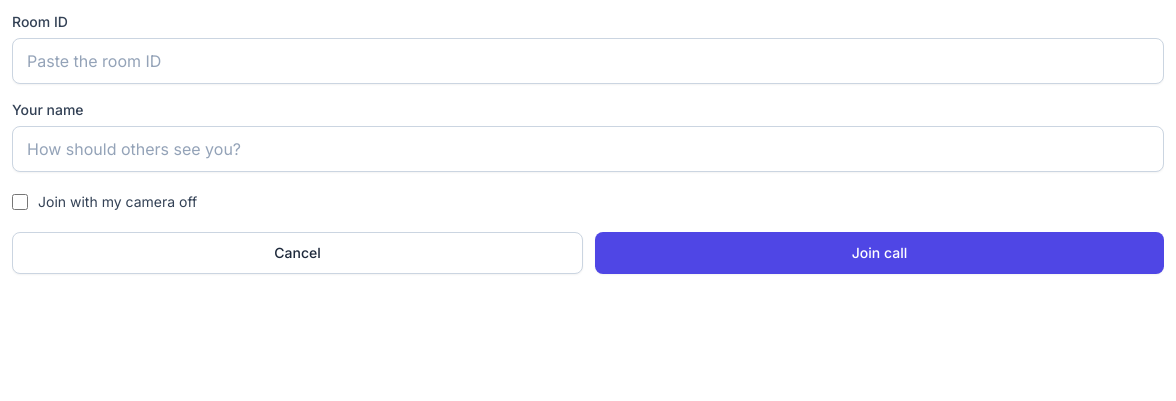
it: JoinRoomContent › joining a call (guest) › only asks for a password once it knows the room needs one
Expected: the field labelled "password" is not shown
In the field labelled "Room ID": (588, 61) [12, 38, 1164, 84], type "locked"
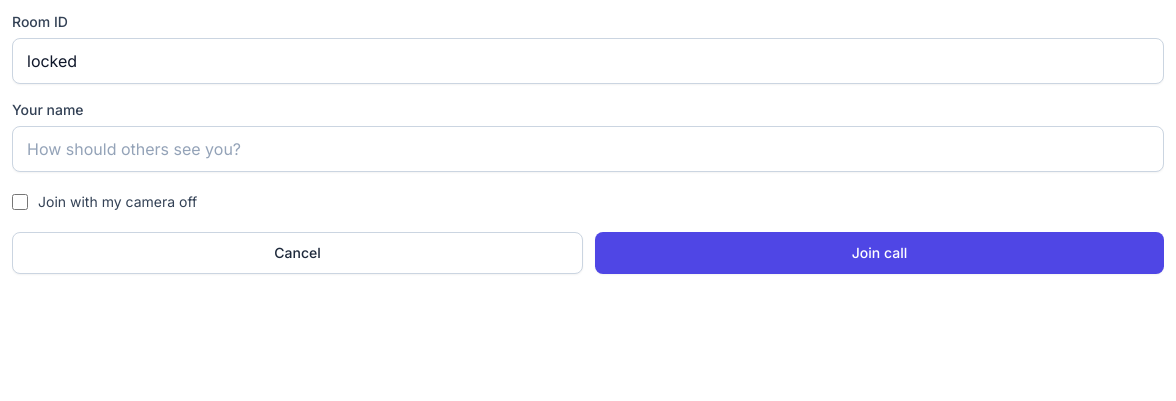
In the field labelled "Your name": (588, 149) [12, 126, 1164, 172], type "Bob"
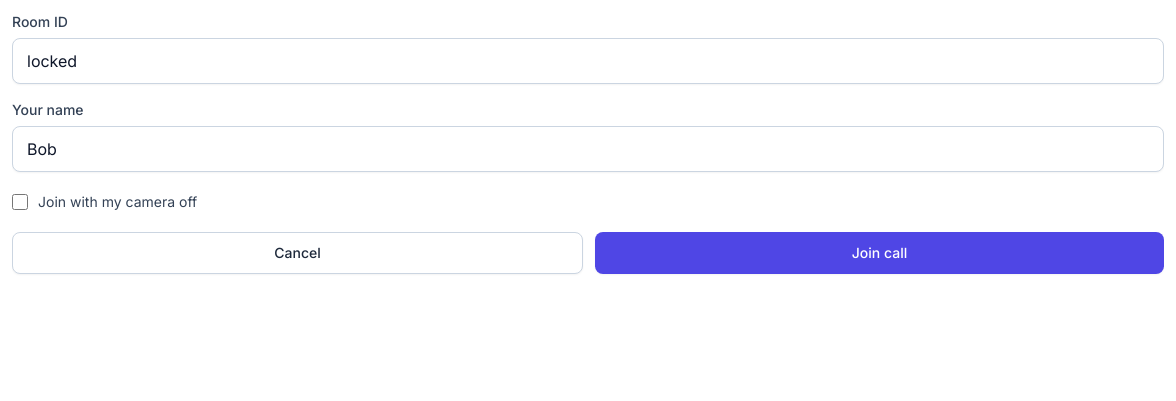
Click the button "Join call": click(880, 253) [595, 232, 1164, 274]
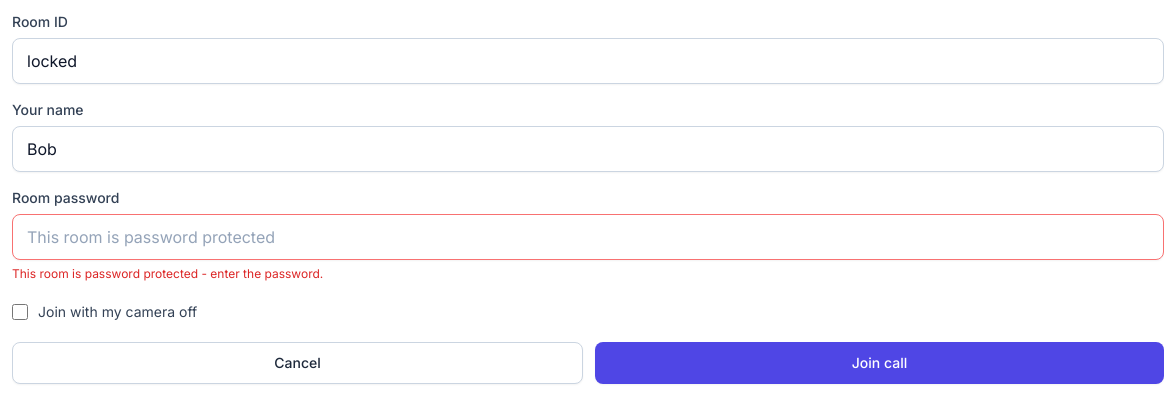
Expected: the password field labelled "Room password" is shown, [12, 214, 1164, 260]
Expected: the text "This room is password protected - enter the password." is shown, [12, 266, 323, 281]
